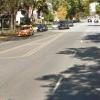Car: (12, 21, 52, 38)
